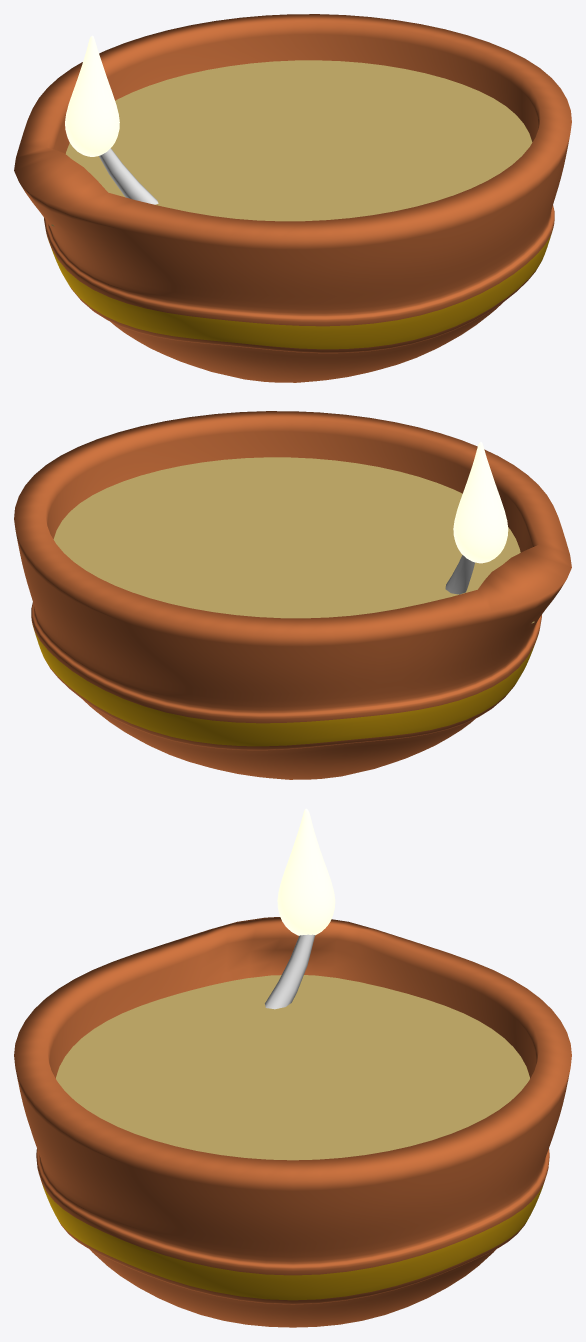
The model's file is Diya_3D.fbx.
3 views of the same model, one above another, from view 1: azimuth 30°, elevation 25°; view 2: azimuth 150°, elevation 25°; view 3: azimuth 270°, elevation 25° (orthographic). The views are drawn at different scales.
Visible parts, largest first — view 1: Diyas, NurbsPath.002; view 2: Diyas, NurbsPath.002; view 3: Diyas, NurbsPath.002.
Boxes of the visible parts, x1,y1,x2,y2 form: Diyas: (14, 14, 571, 382); NurbsPath.002: (99, 148, 158, 204); Diyas: (14, 411, 571, 779); NurbsPath.002: (445, 555, 474, 594); Diyas: (14, 808, 571, 1327); NurbsPath.002: (265, 934, 315, 1009).
Bounding box in the file's own units: 185 × 123 × 166.
